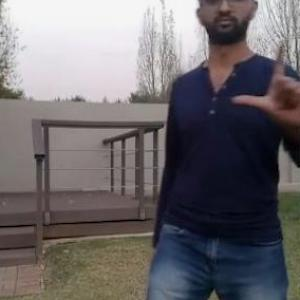land_hand: (224, 27, 299, 136)
